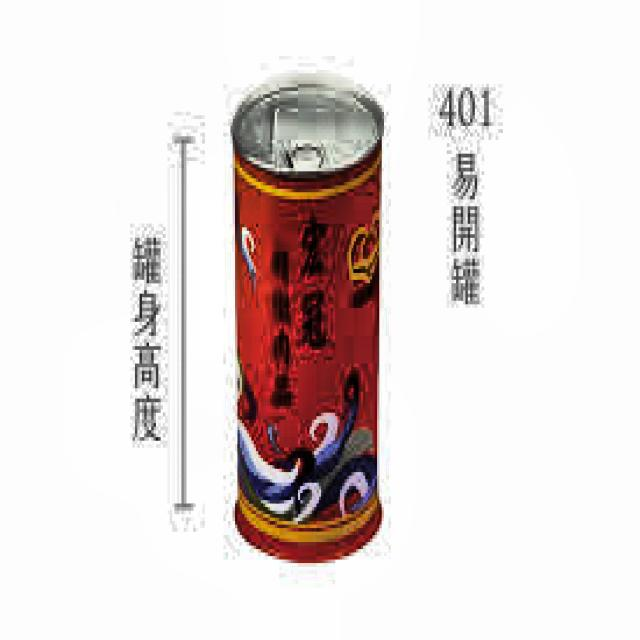can: (227, 67, 393, 570)
